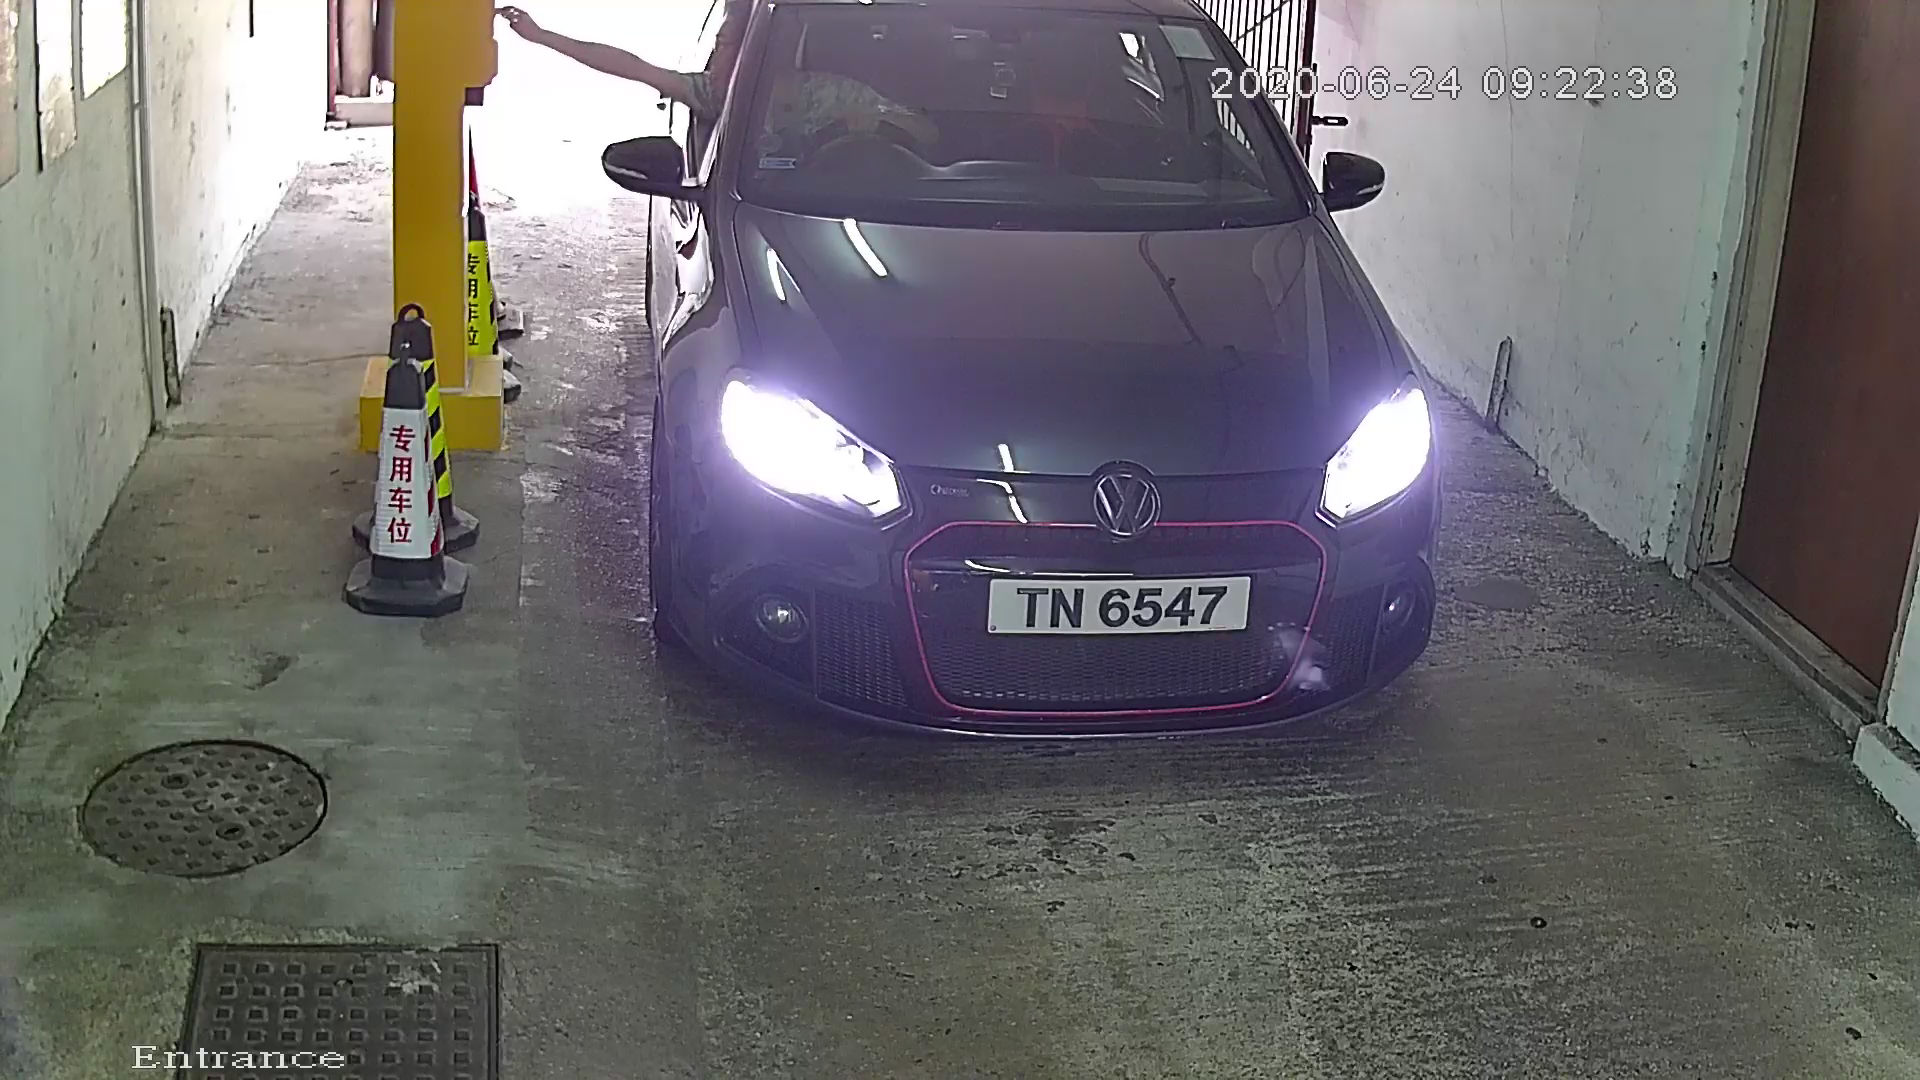Car: (601, 1, 1484, 790)
License Plate: (965, 560, 1266, 644)
